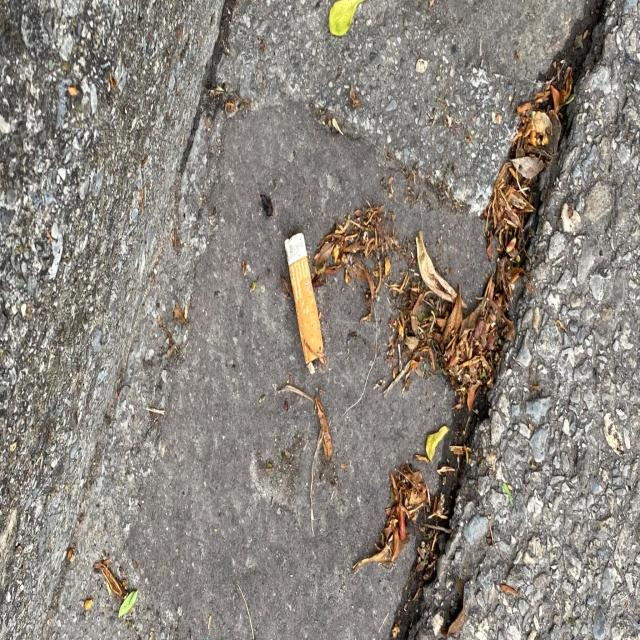other waste: (284, 231, 326, 366)
